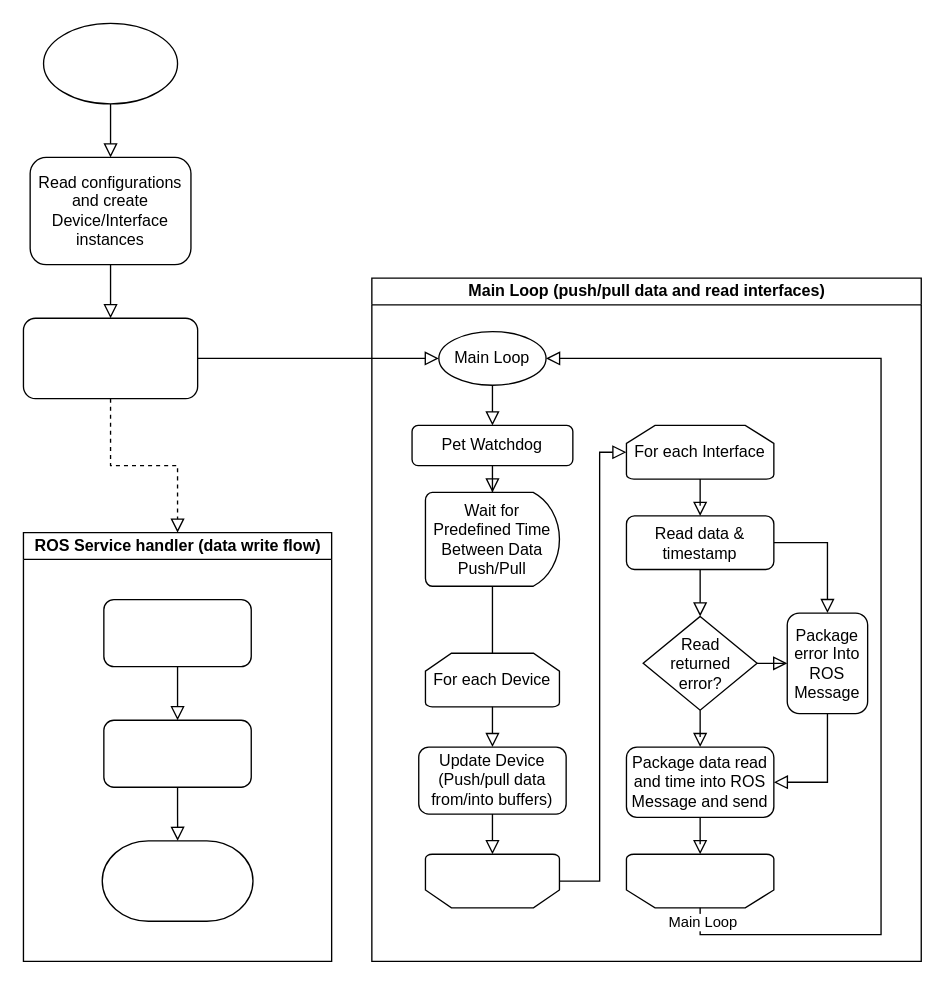
The diagram is 945 pixels wide and 985 high, and some of its shapes have lost their labels. Here are the shapes that lost their labels. From the top down, the centre of each, then its label:
At (x=110, y=63): "Program Start".
At (x=110, y=358): "Set up ROS Message and service handles".
At (x=177, y=632): "ROS Service request recieved".
At (x=177, y=753): "Send request to Interface instance".
At (x=177, y=880): "Return any error from Device or Interface".
